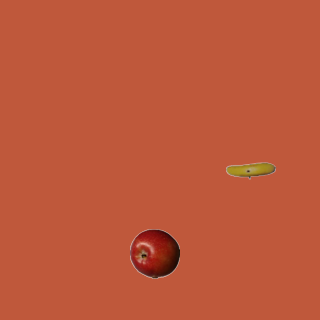Apple Braeburn: (129, 228, 179, 278)
Banana: (225, 145, 275, 195)
